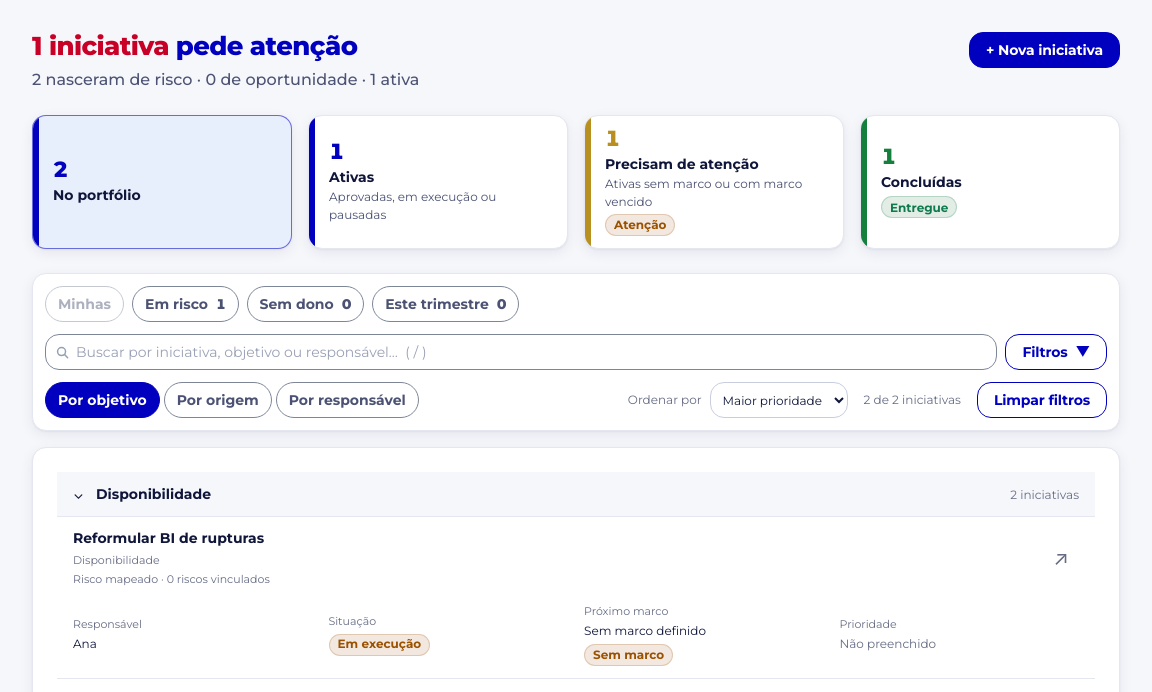
abre detalhe exclusivo e volta preservando busca e foco
The width and height of the screenshot is (1152, 692).
Type "rupturas" into the field named "Buscar iniciativas" at x=521, y=352, box [45,334,998,370]
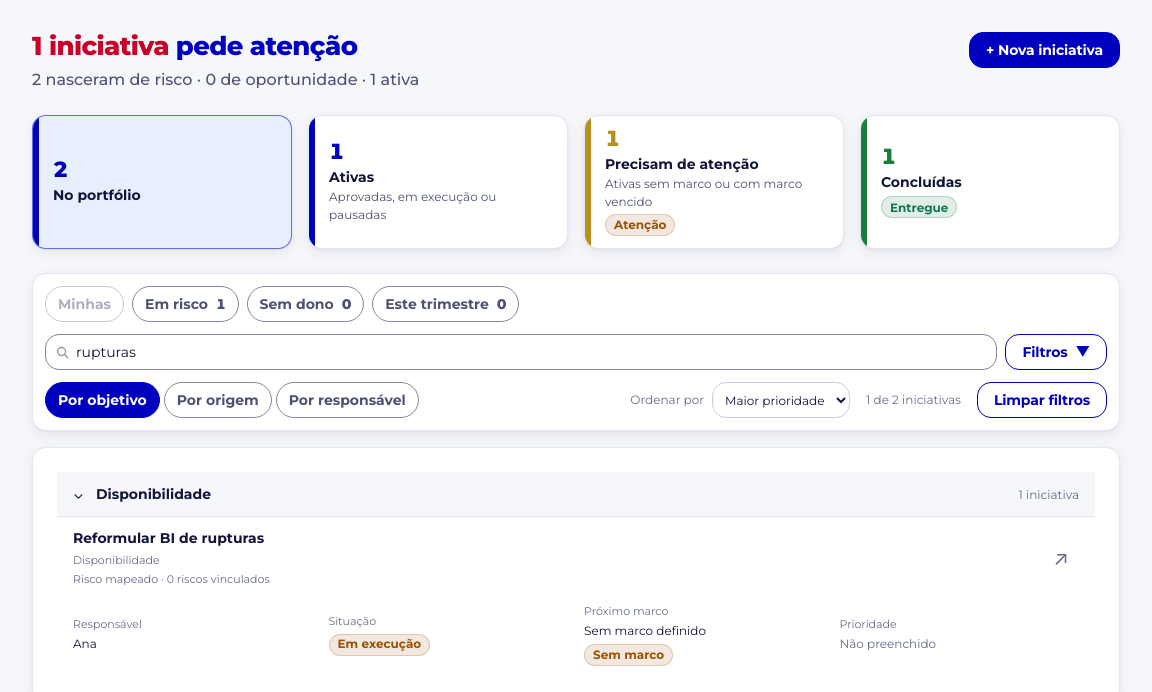
Click the button "Reformular BI de rupturas" at x=169, y=539, box [73,529,264,549]
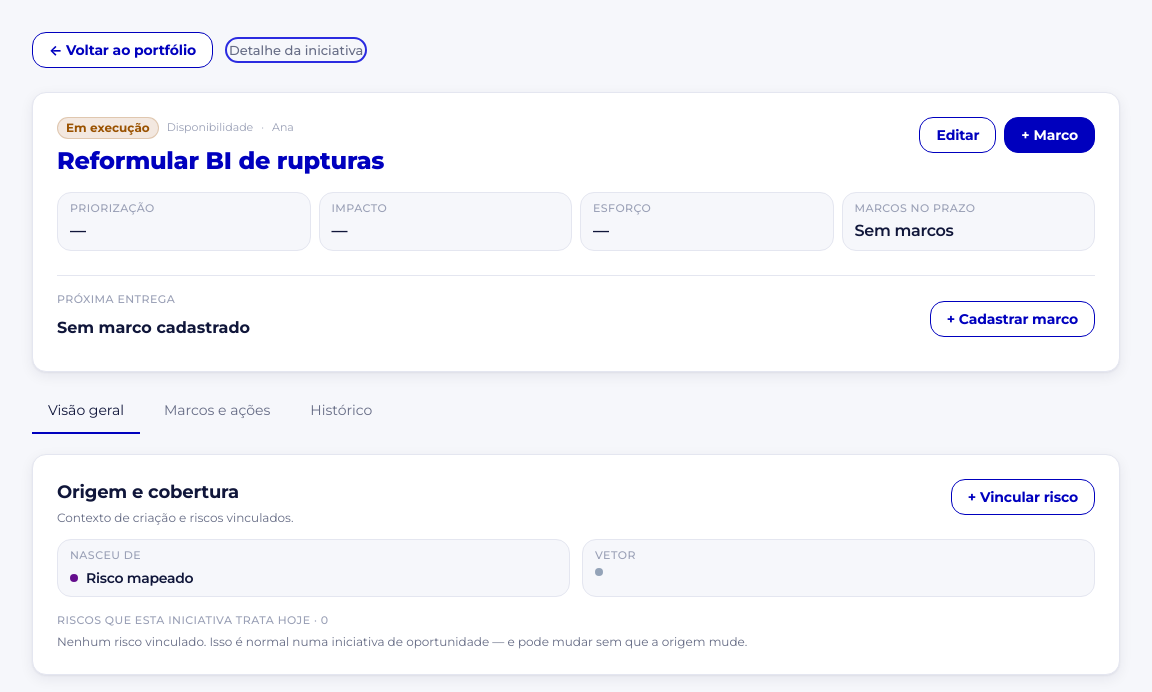
Now the heading "Detalhe da iniciativa" is shown, box [229,41,363,59]
Click the button "← Voltar ao portfólio" at x=122, y=50, box [32,32,213,68]
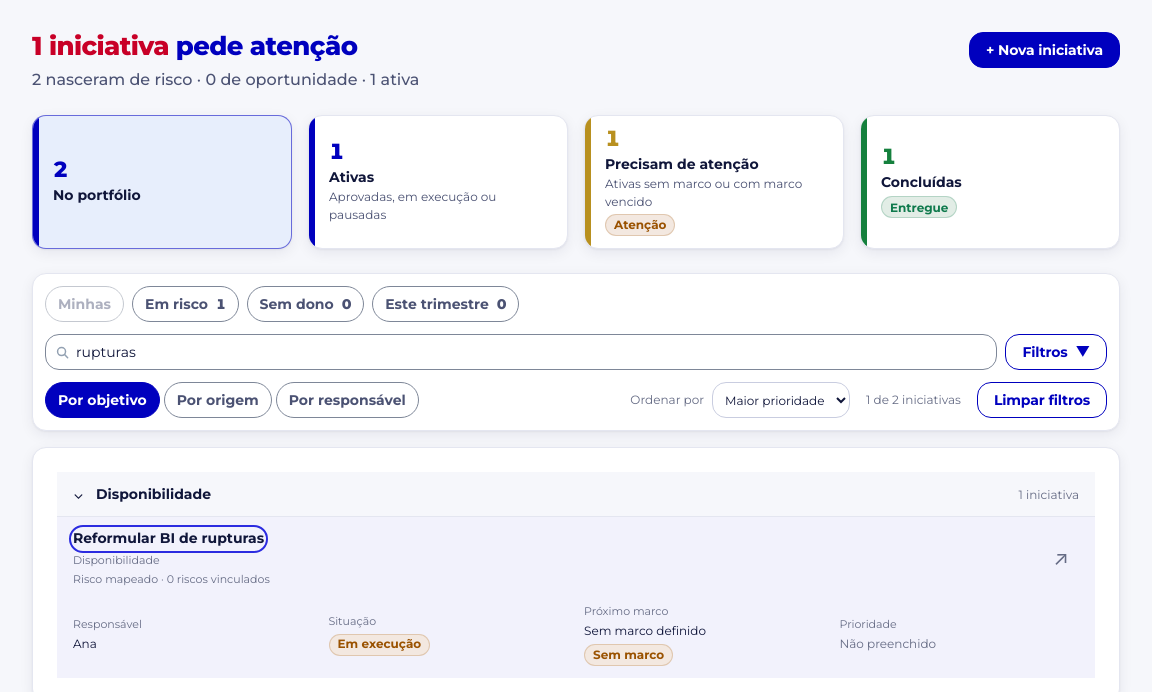
Expected: the button "Rever pedidos" is not shown
Now the field named "Buscar iniciativas" holds "rupturas", box [45,334,998,370]
